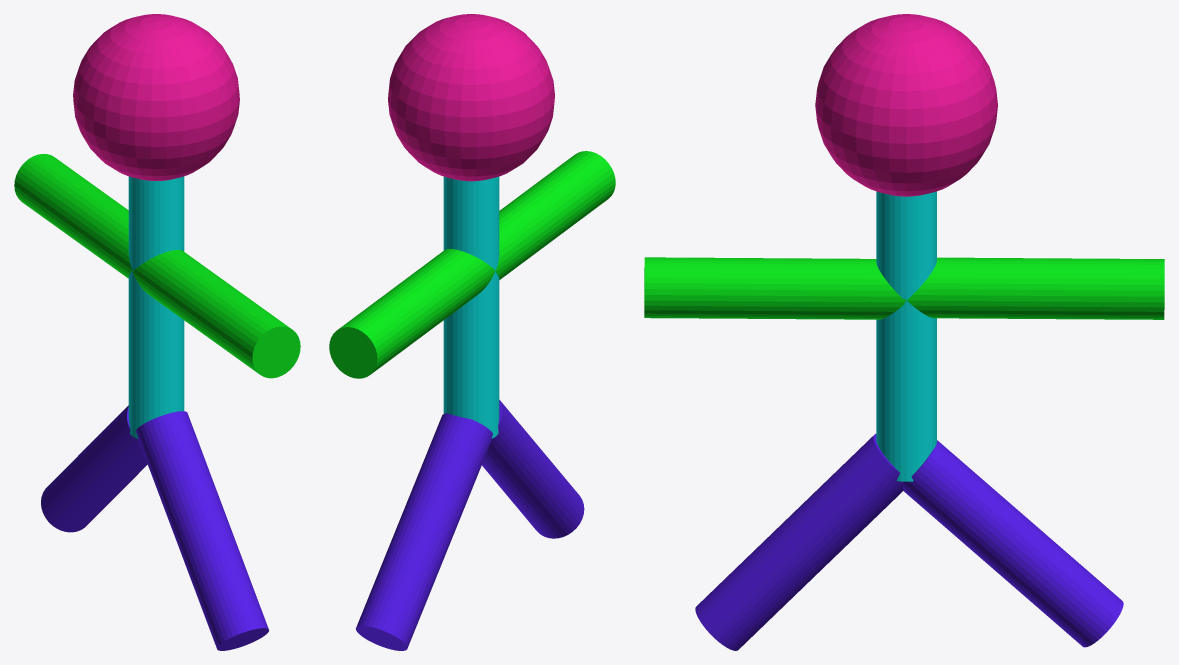
3 renders of one model, left to right at view 1: azimuth 30°, elevation 25°; view 2: azimuth 150°, elevation 25°; view 3: azimuth 270°, elevation 25°, orthographic. The views are drawn at different scales.
Visible parts, largest first — view 1: Cylinder.005; view 2: Cylinder.005; view 3: Cylinder.005.
Boxes of the visible parts, x1,y1,x2,y2 form: Cylinder.005: (14, 14, 300, 650); Cylinder.005: (329, 14, 615, 650); Cylinder.005: (644, 14, 1164, 650).
Size of the model in its own units: 2 by 7.54 by 5.69.
